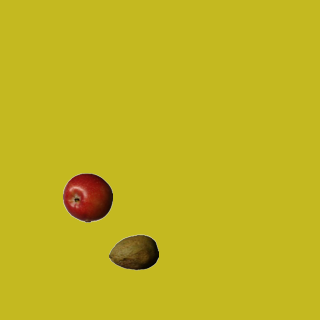Apple Braeburn: (62, 172, 112, 222)
Papaya: (108, 227, 158, 277)
